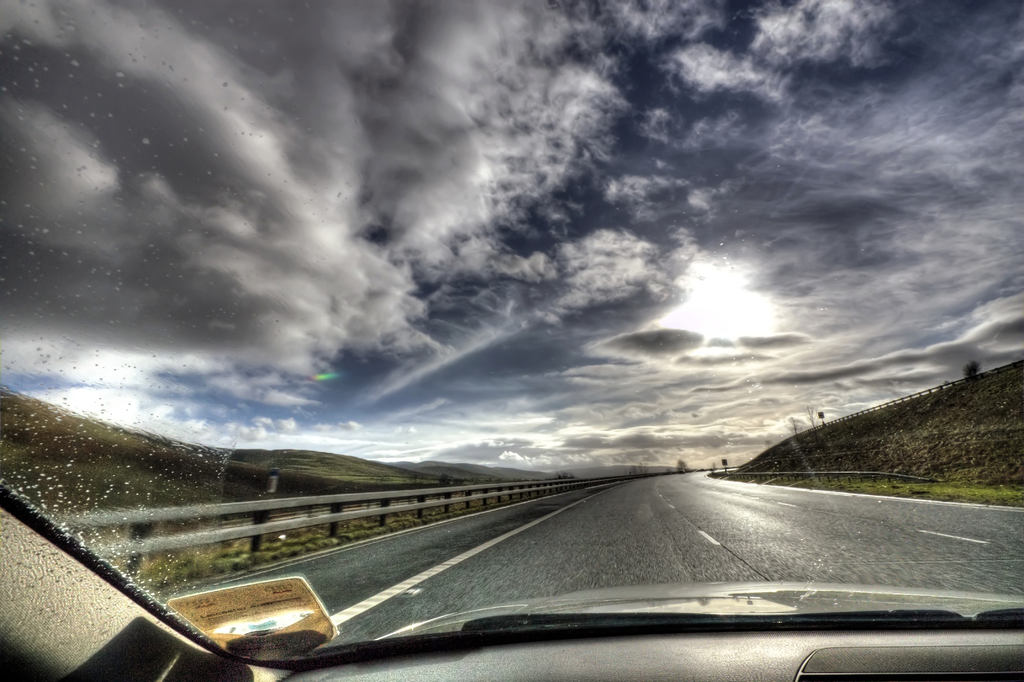Car: (0, 3, 1023, 681)
